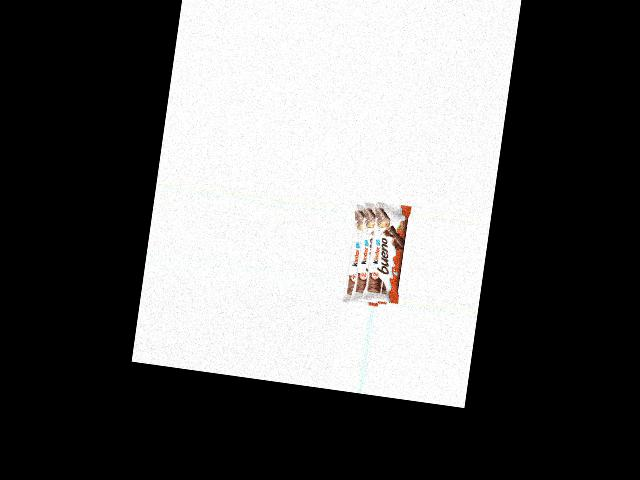chocolate: (342, 200, 412, 309)
